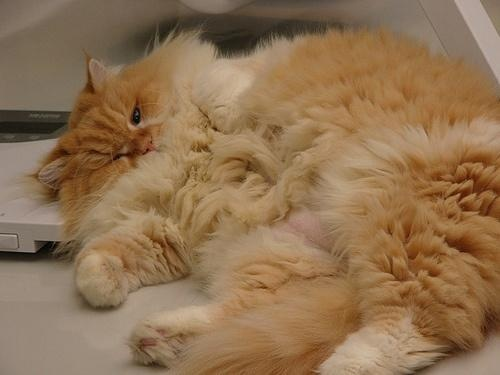cat: (35, 24, 499, 375)
